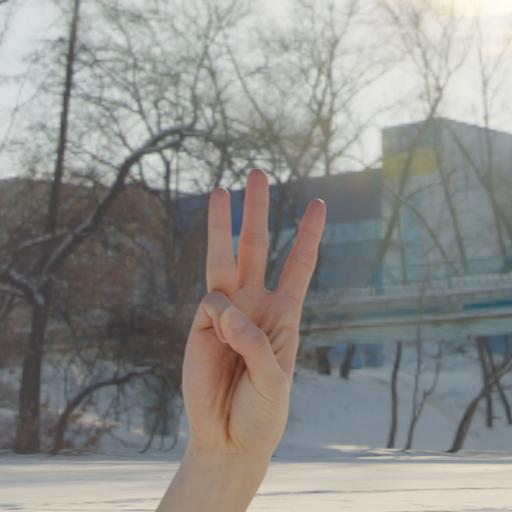W: (169, 160, 333, 475)
